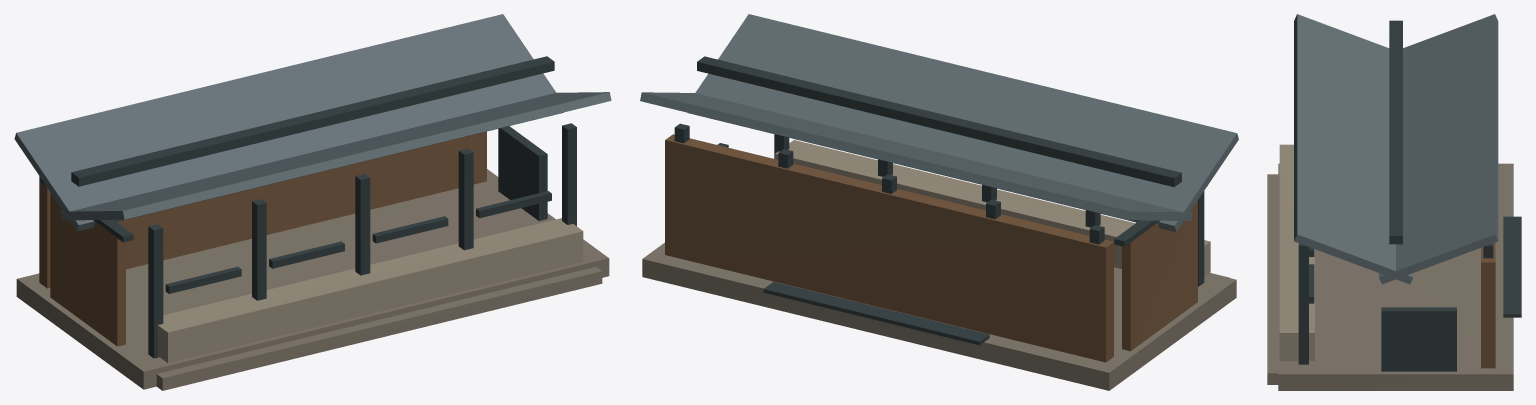
The model's file is cow-barn.source.glb.
3 views of the same model, side by side, from view 1: azimuth 30°, elevation 25°; view 2: azimuth 150°, elevation 25°; view 3: azimuth 270°, elevation 25° (orthographic). The views are drawn at different scales.
Visible parts, largest first — view 1: cow-barn-broad-shallow-galvanized-roof-mesh (×2), cow-barn-long-stone-foundation-mesh, cow-barn-continuous-open-feeding-trough-mesh, cow-barn-rear-timber-wall-mesh, cow-barn-feeding-side-curb-mesh, cow-barn-continuous-ventilation-ridge-mesh, cow-barn-open-feeding-side-post-mesh (×5), cow-barn-broad-timber-service-door-panel-mesh, cow-barn-open-side-feed-rail-mesh (×4), cow-barn-side-manure-service-gate-mesh; view 2: cow-barn-rear-timber-wall-mesh, cow-barn-broad-shallow-galvanized-roof-mesh (×2), cow-barn-long-stone-foundation-mesh, cow-barn-continuous-ventilation-ridge-mesh, cow-barn-broad-timber-service-door-panel-mesh, cow-barn-continuous-open-feeding-trough-mesh, cow-barn-manure-drainage-channel-cue-mesh, cow-barn-open-feeding-side-post-mesh, cow-barn-door-track-mesh; view 3: cow-barn-broad-shallow-galvanized-roof-mesh (×2), cow-barn-long-stone-foundation-mesh, cow-barn-side-manure-service-gate-mesh, cow-barn-continuous-open-feeding-trough-mesh, cow-barn-continuous-ventilation-ridge-mesh, cow-barn-feeding-side-curb-mesh, cow-barn-manure-drainage-channel-cue-mesh, cow-barn-rear-timber-wall-mesh, cow-barn-open-feeding-side-post-mesh, cow-barn-open-side-feed-rail-mesh.
Part boxes in pixels (bbox=[...]): cow-barn-broad-shallow-galvanized-roof-mesh (×2): bbox=[14, 14, 611, 231]; cow-barn-long-stone-foundation-mesh: bbox=[16, 169, 609, 389]; cow-barn-continuous-open-feeding-trough-mesh: bbox=[157, 218, 583, 362]; cow-barn-rear-timber-wall-mesh: bbox=[39, 131, 486, 288]; cow-barn-feeding-side-curb-mesh: bbox=[156, 267, 602, 390]; cow-barn-continuous-ventilation-ridge-mesh: bbox=[71, 56, 554, 186]; cow-barn-open-feeding-side-post-mesh (×5): bbox=[148, 123, 576, 358]; cow-barn-broad-timber-service-door-panel-mesh: bbox=[50, 192, 125, 346]; cow-barn-open-side-feed-rail-mesh (×4): bbox=[165, 191, 551, 293]; cow-barn-side-manure-service-gate-mesh: bbox=[498, 126, 547, 220]; cow-barn-rear-timber-wall-mesh: bbox=[665, 134, 1113, 362]; cow-barn-broad-shallow-galvanized-roof-mesh (×2): bbox=[640, 14, 1238, 231]; cow-barn-long-stone-foundation-mesh: bbox=[642, 242, 1236, 390]; cow-barn-continuous-ventilation-ridge-mesh: bbox=[697, 56, 1181, 187]; cow-barn-broad-timber-service-door-panel-mesh: bbox=[1122, 200, 1197, 351]; cow-barn-continuous-open-feeding-trough-mesh: bbox=[775, 140, 1210, 276]; cow-barn-manure-drainage-channel-cue-mesh: bbox=[763, 281, 989, 345]; cow-barn-open-feeding-side-post-mesh: bbox=[1198, 191, 1204, 286]; cow-barn-door-track-mesh: bbox=[1114, 220, 1159, 246]; cow-barn-broad-shallow-galvanized-roof-mesh (×2): bbox=[1294, 14, 1498, 284]; cow-barn-long-stone-foundation-mesh: bbox=[1278, 163, 1513, 390]; cow-barn-side-manure-service-gate-mesh: bbox=[1381, 307, 1456, 371]; cow-barn-continuous-open-feeding-trough-mesh: bbox=[1279, 144, 1314, 361]; cow-barn-continuous-ventilation-ridge-mesh: bbox=[1389, 20, 1402, 244]; cow-barn-feeding-side-curb-mesh: bbox=[1267, 174, 1278, 384]; cow-barn-manure-drainage-channel-cue-mesh: bbox=[1503, 216, 1521, 317]; cow-barn-rear-timber-wall-mesh: bbox=[1481, 242, 1495, 368]; cow-barn-open-feeding-side-post-mesh: bbox=[1298, 243, 1308, 364]; cow-barn-open-side-feed-rail-mesh: bbox=[1309, 264, 1314, 303].
Size of the model in its own units: 5.65 by 1.93 by 2.76.
